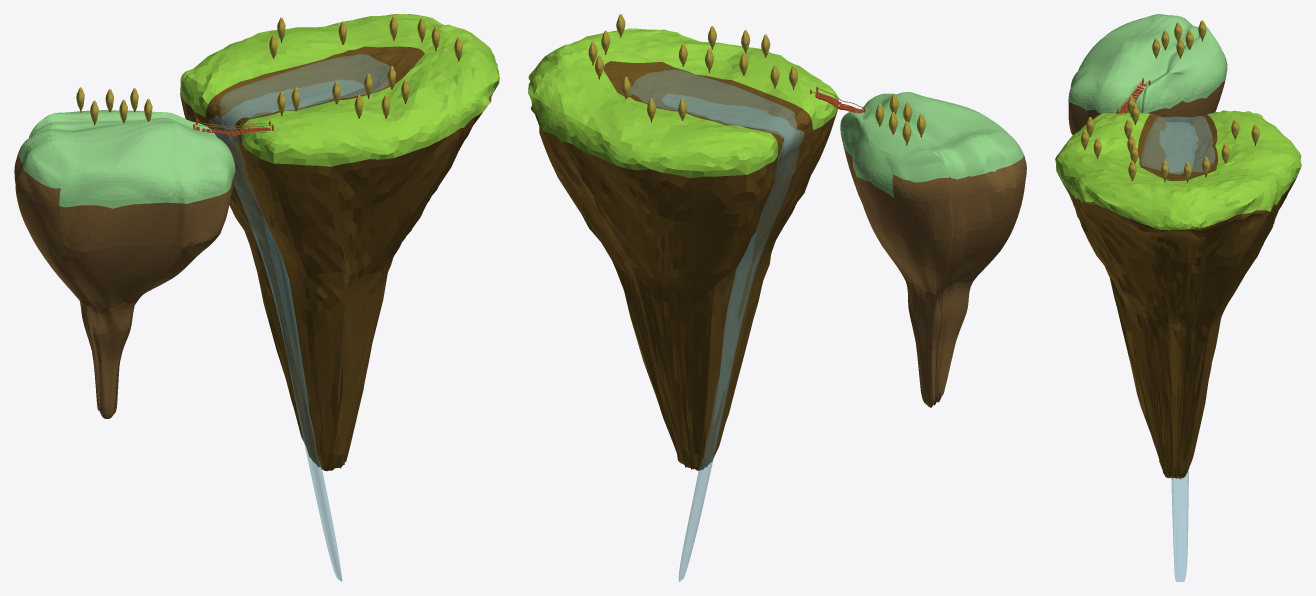
File: island2WithAnimation.fbx
3 views of the same model, side by side, from view 1: azimuth 30°, elevation 25°; view 2: azimuth 150°, elevation 25°; view 3: azimuth 270°, elevation 25° (orthographic). The views are drawn at different scales.
Parts seen in each view (by area): view 1: Island, Cube, Water; view 2: Island, Cube, Water; view 3: Island, Cube, Water.
Part boxes in pixels (x1=…): Island: x1=180, y1=14, x2=499, y2=471; Cube: x1=14, y1=110, x2=235, y2=418; Water: x1=209, y1=54, x2=389, y2=581; Island: x1=528, y1=28, x2=838, y2=470; Cube: x1=840, y1=92, x2=1026, y2=407; Water: x1=629, y1=70, x2=804, y2=581; Island: x1=1055, y1=110, x2=1301, y2=479; Cube: x1=1068, y1=14, x2=1227, y2=134; Water: x1=1140, y1=116, x2=1214, y2=581.
Size of the model in its own units: 13.25 by 14.25 by 6.93.
